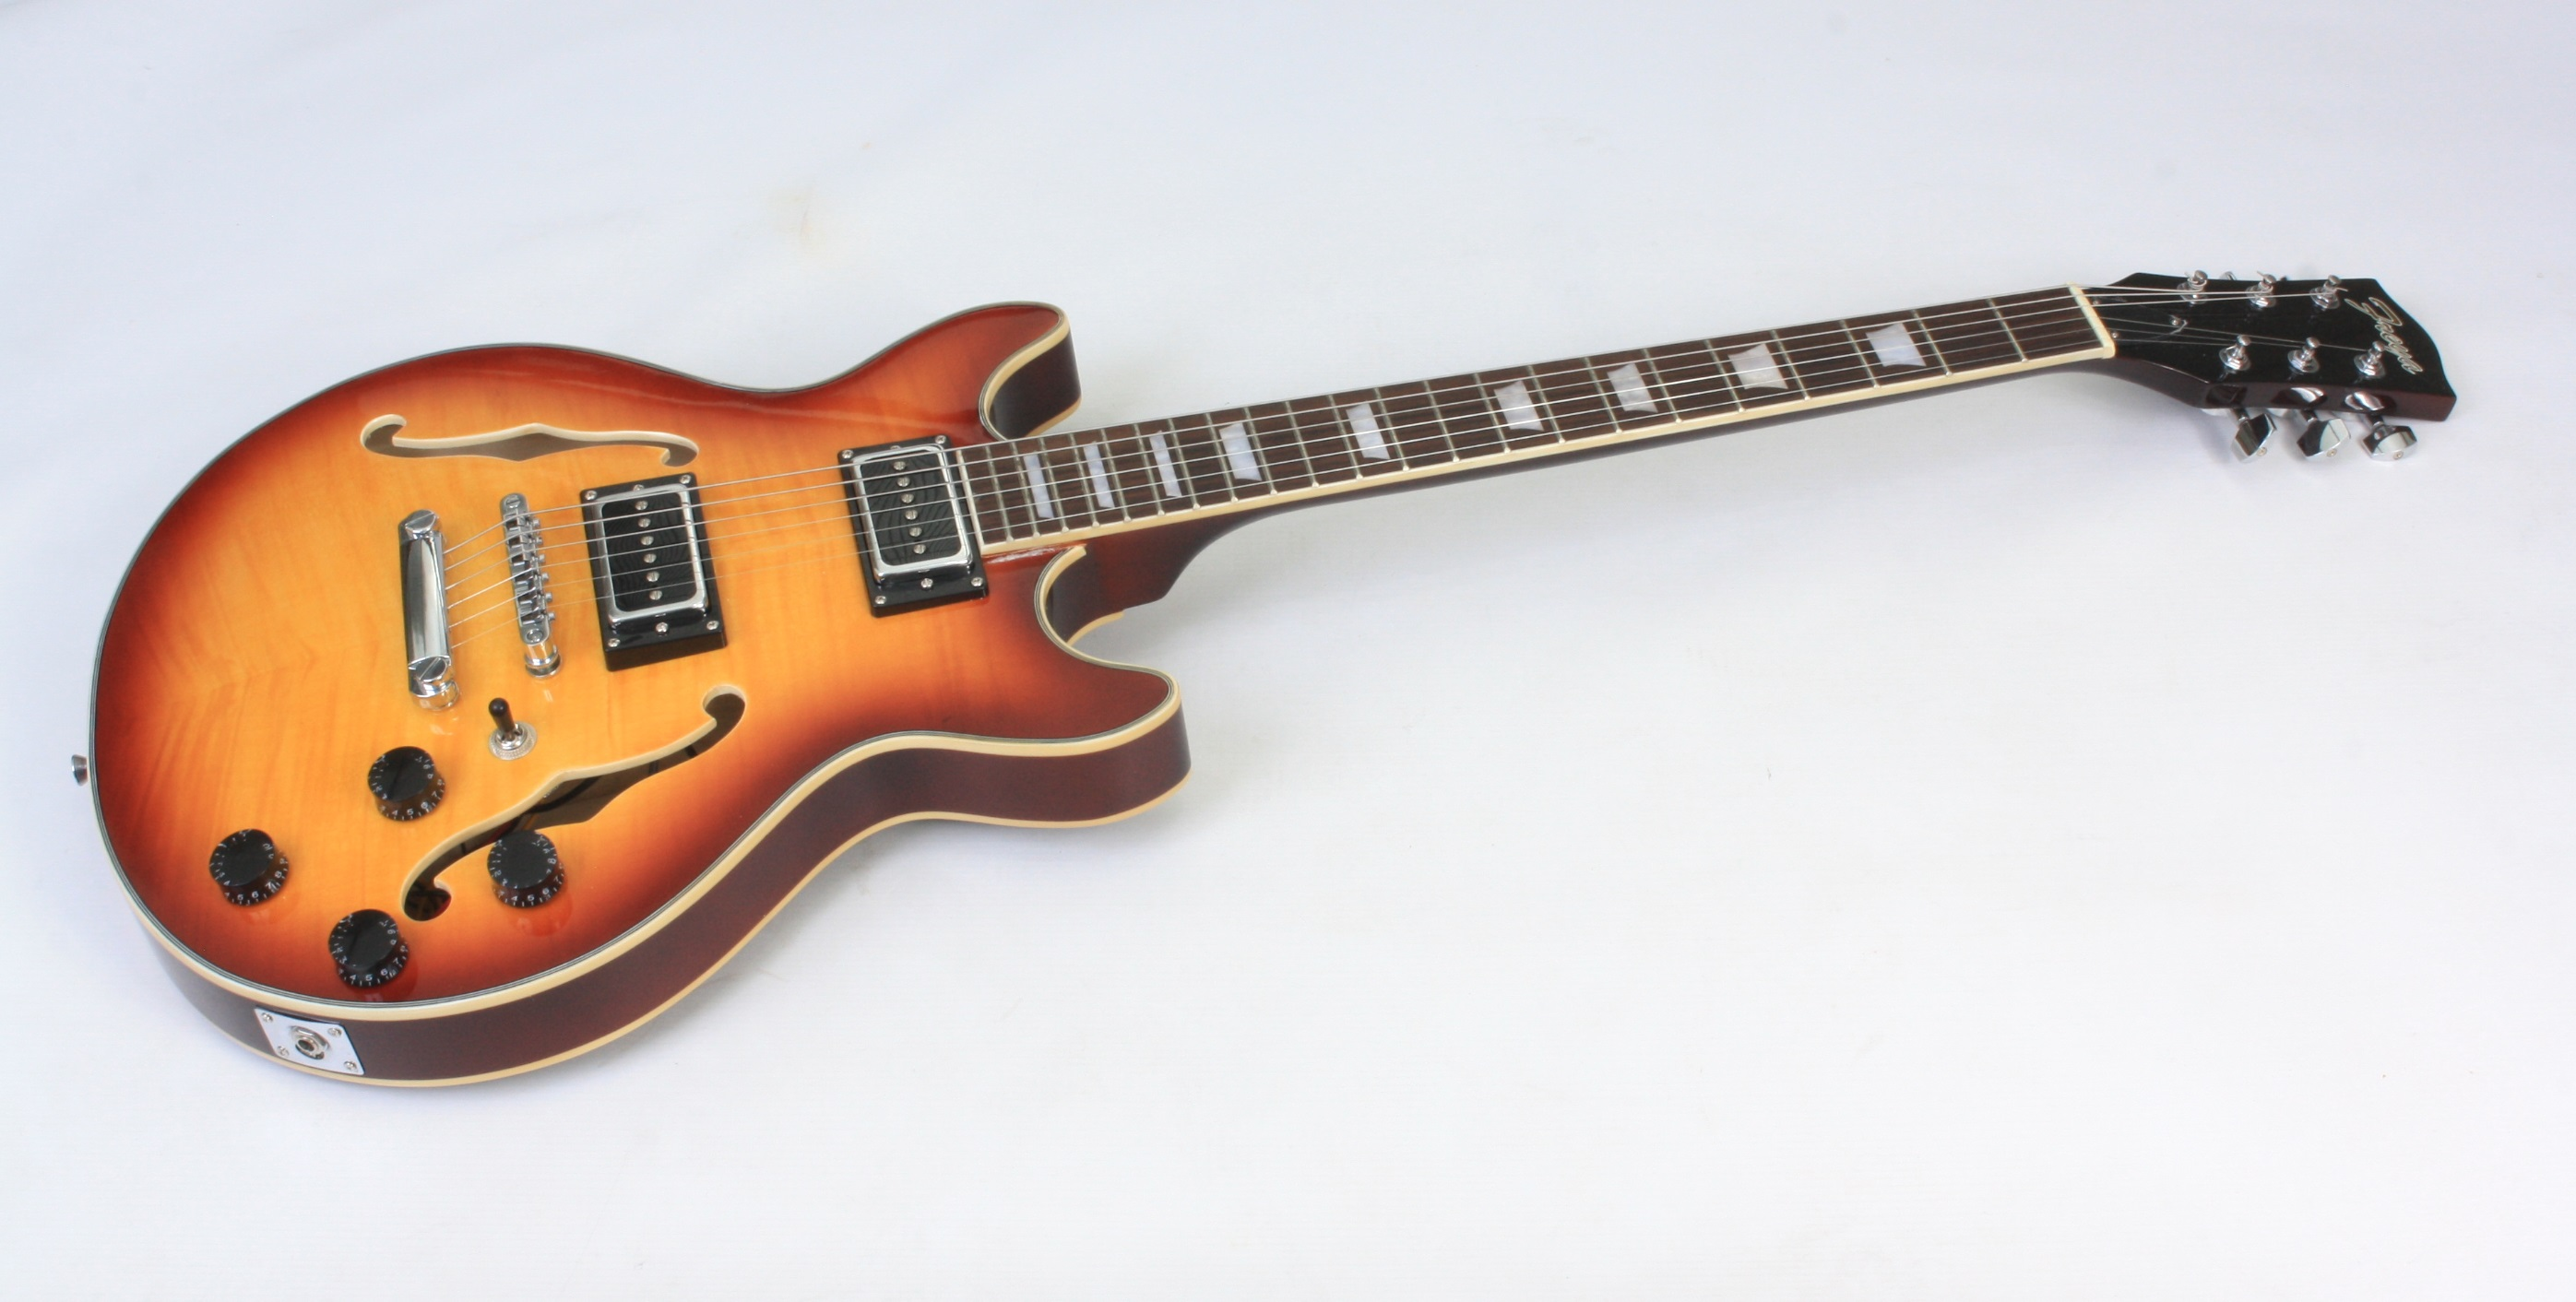ElectricGuitar: (96, 252, 2470, 1065)
